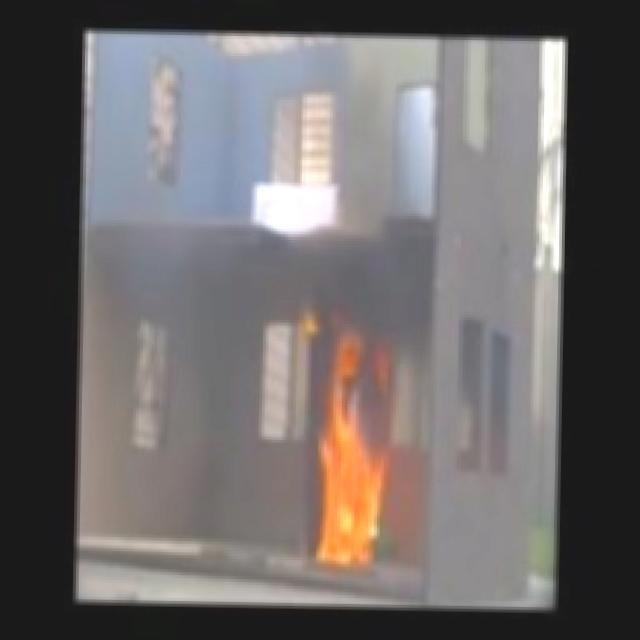fire: (291, 334, 415, 573)
